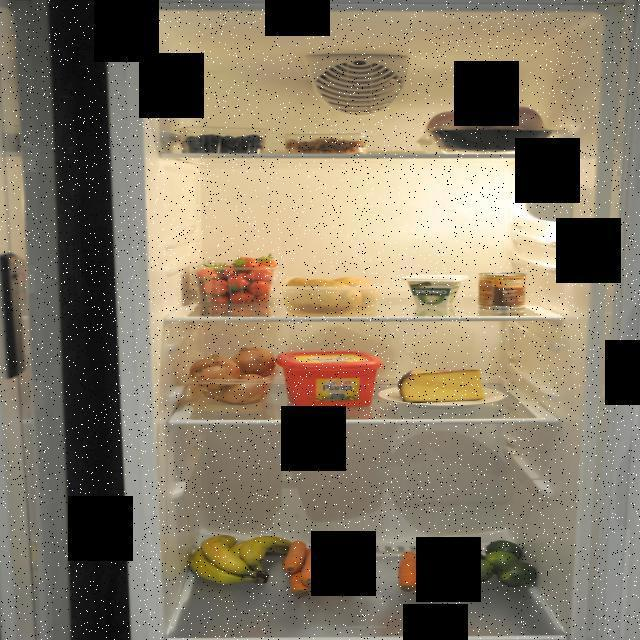banana: (178, 533, 284, 587)
blueberries: (183, 132, 265, 155)
butter: (274, 349, 386, 409)
carrot: (283, 540, 361, 600), (396, 549, 450, 599)
cheese: (396, 366, 486, 404)
chicken: (416, 105, 556, 155)
corn: (478, 270, 529, 312)
goat_cheese: (400, 271, 468, 310)
lime: (448, 540, 544, 590)
onion: (189, 345, 280, 406)
potato: (281, 276, 388, 318)
shrimp: (286, 136, 372, 154)
strawberries: (194, 252, 282, 306)
